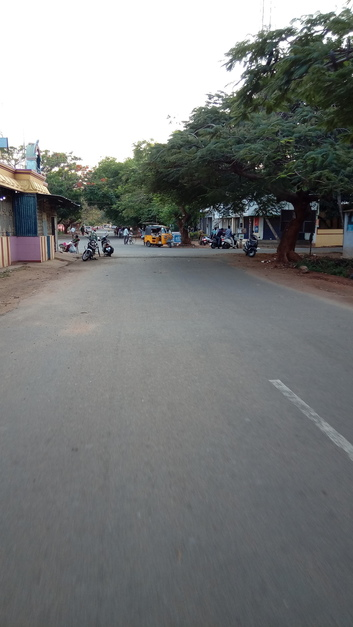bump: (99, 254, 224, 260)
